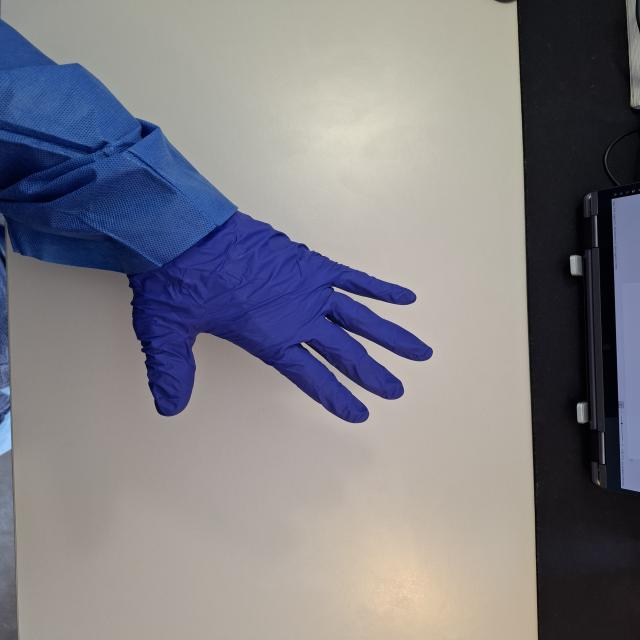glove_on: (125, 208, 435, 425)
